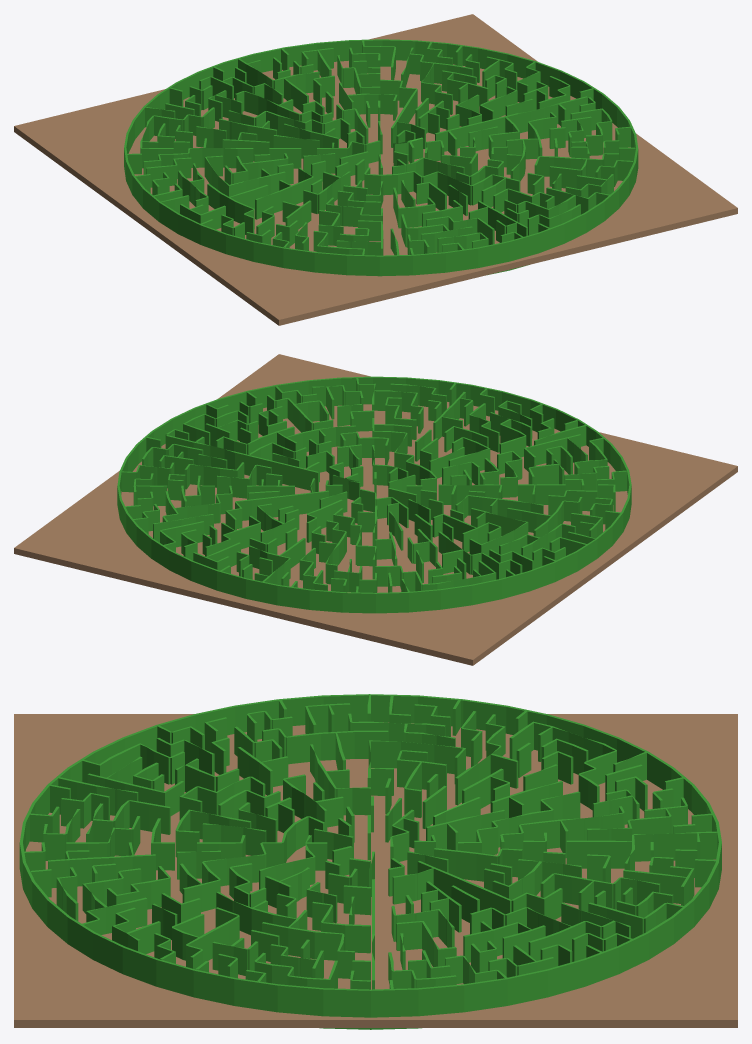
The model's file is 20230514_circular_maze.gltf.
3 renders of one model, top to bottom at view 1: azimuth 30°, elevation 25°; view 2: azimuth 150°, elevation 25°; view 3: azimuth 270°, elevation 25°, orthographic. The views are drawn at different scales.
Visible parts, largest first — view 1: Curve.385, Cube; view 2: Curve.385, Cube; view 3: Curve.385, Cube.
Boxes of the visible parts, x1,y1,x2,y2 form: Curve.385: (124, 39, 638, 276); Cube: (14, 14, 737, 325); Curve.385: (117, 376, 631, 613); Cube: (14, 354, 737, 665); Curve.385: (19, 694, 721, 1029); Cube: (14, 714, 737, 1027).
Bounding box in the file's own units: 7.16 × 0.4258 × 7.16.
